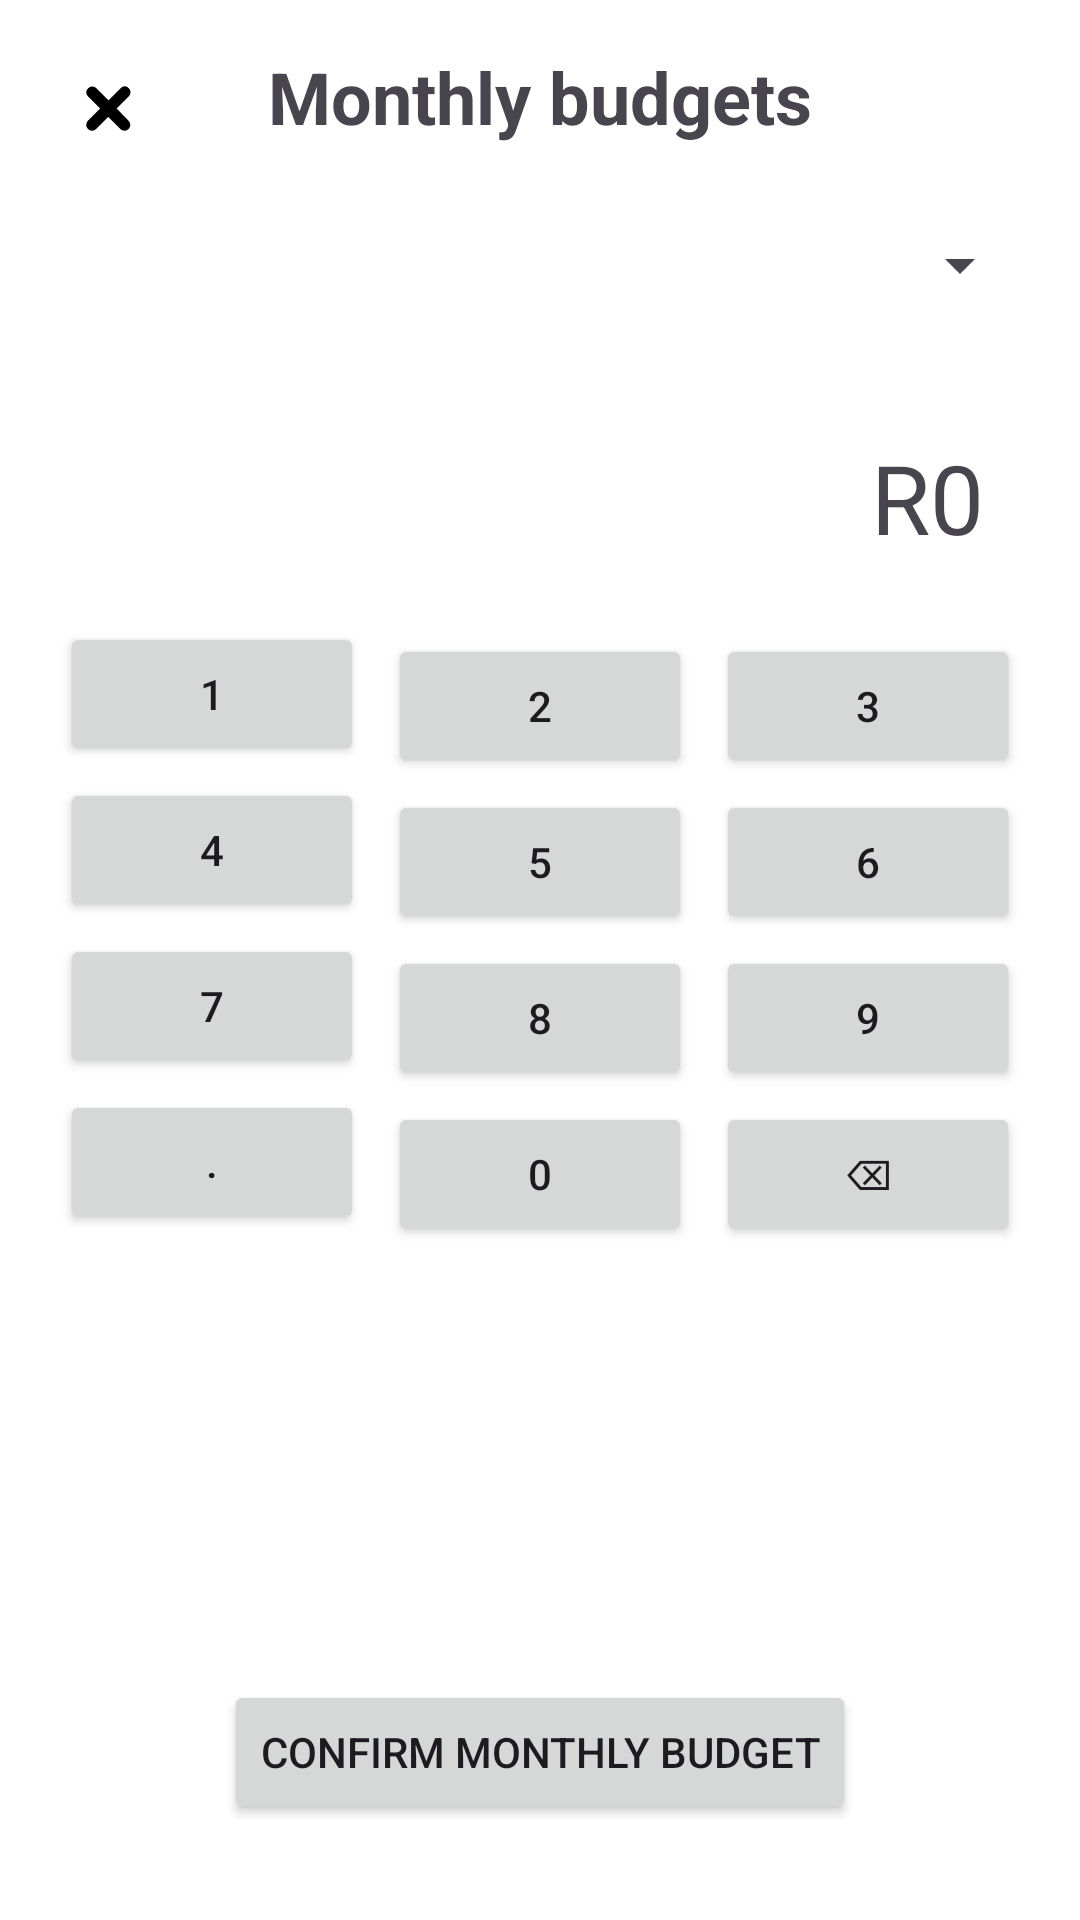

Point at icon controls on the screen. Image size 1080px×1920px, points as (x,y).
Close: (108,108)
